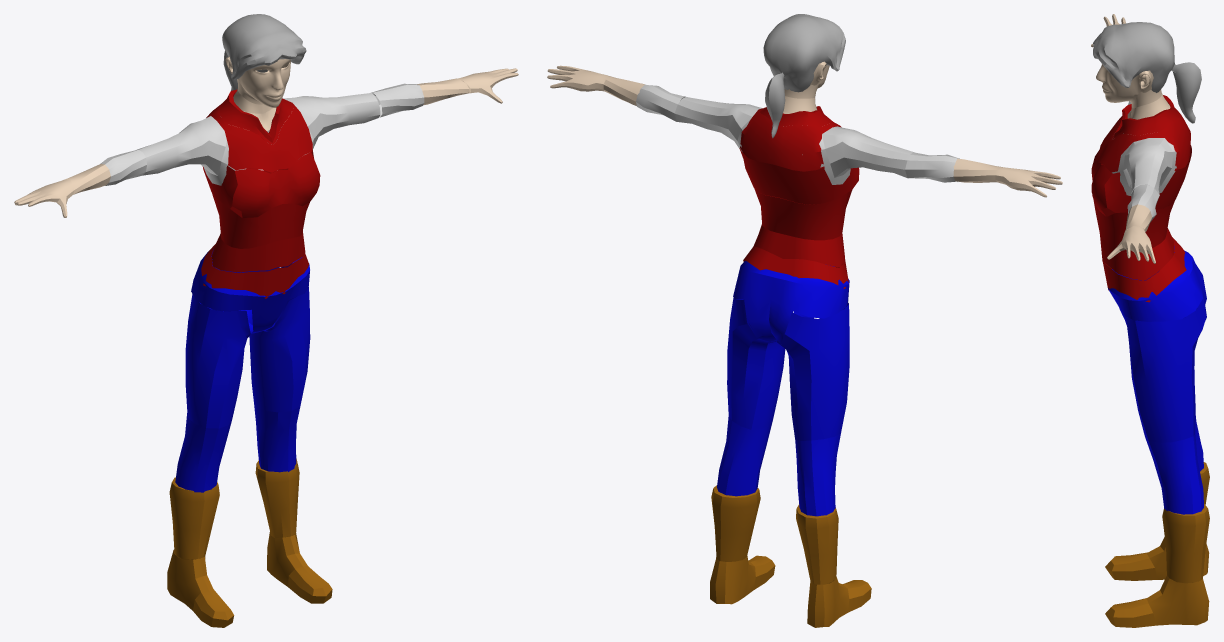
The model's file is Ana_BaseRig.fbx.
The picture shows the model from 3 angles, left to right: view 1: azimuth 30°, elevation 25°; view 2: azimuth 150°, elevation 25°; view 3: azimuth 270°, elevation 25°; orthographic projection. The views are drawn at different scales.
Parts seen in each view (by area): view 1: polySurface14 (×2), polySurface22 (×2), polySurface16 (×2), polySurface12 (×2), polySurface37, polySurface1, polySurface40, polySurface13, polySurface17 (×2), polySurface31, polySurface33, polySurface36 (+6 smaller); view 2: polySurface14 (×2), polySurface12 (×2), polySurface13, polySurface1, polySurface16 (×2), polySurface22 (×2), polySurface40, polySurface17 (×2), polySurface37, polySurface31, polySurface24 (×2), polySurface20 (×2) (+4 smaller); view 3: polySurface14, polySurface1, polySurface12 (×2), polySurface16 (×2), polySurface13, polySurface17 (×2), polySurface18 (×2), polySurface37, polySurface22, polySurface40, polySurface36, polySurface33 (+9 smaller).
Part boxes in pixels (x1,y1,x2,y2): polySurface14 (×2): (185,267,310,428); polySurface22 (×2): (136,93,380,175); polySurface16 (×2): (169,458,299,559); polySurface12 (×2): (175,404,300,492); polySurface37: (202,137,320,217); polySurface1: (222,14,306,90); polySurface40: (206,98,312,172); polySurface13: (191,249,309,333); polySurface17 (×2): (167,532,307,610); polySurface31: (212,170,309,248); polySurface33: (211,231,305,272); polySurface36: (201,244,309,298); polySurface14 (×2): (727,297,849,440); polySurface12 (×2): (717,415,840,516); polySurface13: (733,261,849,343); polySurface1: (763,14,845,138); polySurface16 (×2): (711,485,838,584); polySurface22 (×2): (674,97,913,177); polySurface40: (740,108,841,171); polySurface17 (×2): (710,556,849,627); polySurface37: (739,148,859,204); polySurface31: (754,188,852,240); polySurface24 (×2): (547,65,1062,197); polySurface20 (×2): (636,84,959,182); polySurface14: (1119,299,1206,442); polySurface1: (1093,22,1201,123); polySurface12 (×2): (1145,416,1203,514); polySurface16 (×2): (1162,462,1209,583); polySurface13: (1108,246,1206,321); polySurface17 (×2): (1146,537,1209,625); polySurface18 (×2): (1105,552,1157,627); polySurface37: (1091,145,1191,216); polySurface22: (1123,138,1173,194); polySurface40: (1098,108,1190,172); polySurface36: (1102,237,1186,302); polySurface33: (1099,228,1174,280).
Bounding box in the file's own units: 2.36 × 2.58 × 0.4832.
